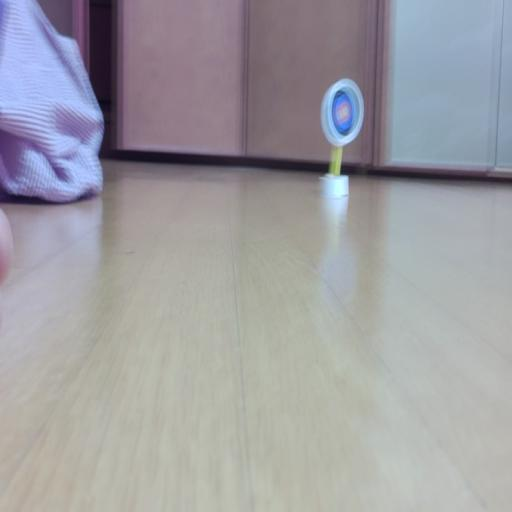target: (321, 79, 364, 146)
